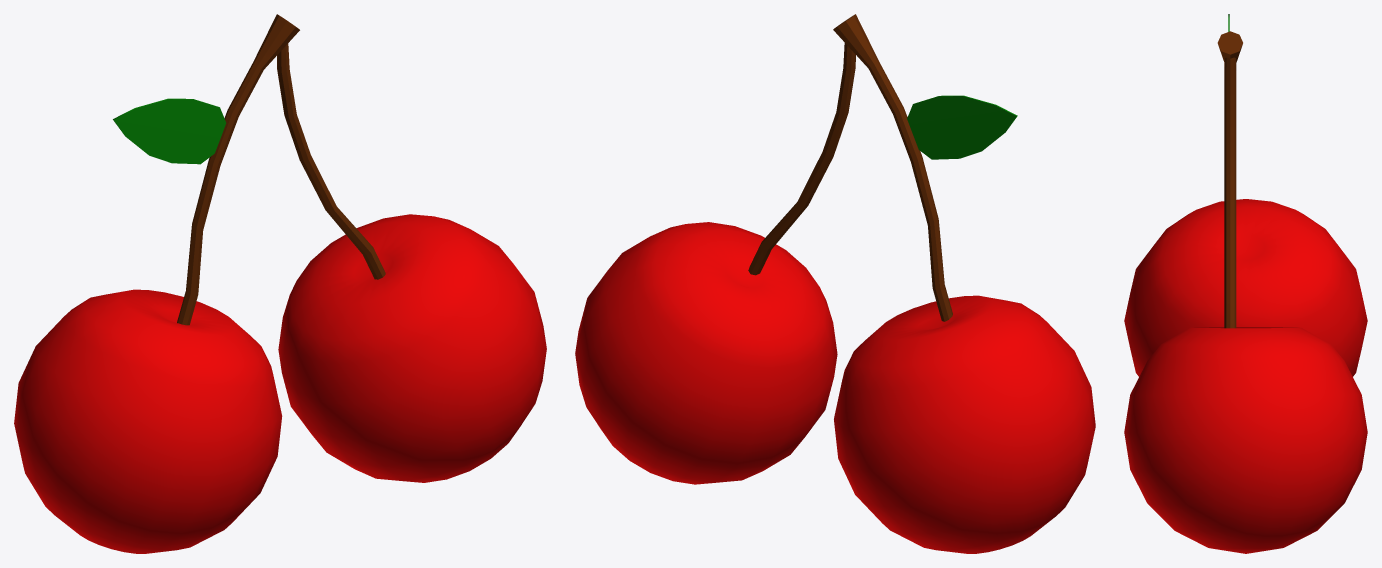
File: level19.fbx
3 views of the same model, side by side, from view 1: azimuth 30°, elevation 25°; view 2: azimuth 150°, elevation 25°; view 3: azimuth 270°, elevation 25° (orthographic). The views are drawn at different scales.
Visible parts, largest first — view 1: pCube2, polySurface34; view 2: pCube2, polySurface34; view 3: polySurface34, pCube2.
Boxes of the visible parts, <box> form: pCube2: <box>14,14,299,553</box>; polySurface34: <box>277,43,546,482</box>; pCube2: <box>833,14,1095,553</box>; polySurface34: <box>575,43,855,484</box>; polySurface34: <box>1124,57,1367,553</box>; pCube2: <box>1124,14,1367,376</box>.
Size of the model in its own units: 9.53 by 9.21 by 4.47.
